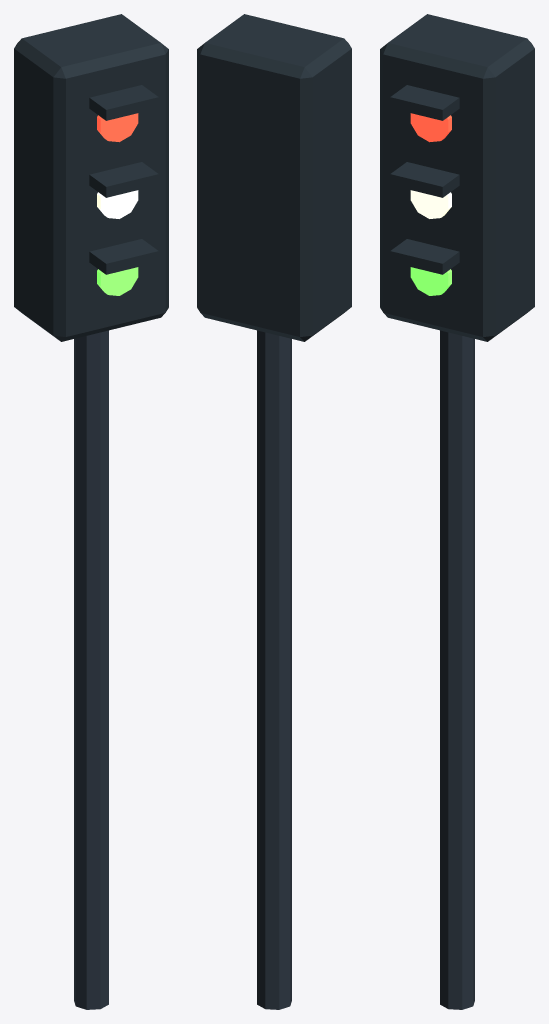
Rendered from hd_trafficlight.gltf.
3 renders of one model, left to right at view 1: azimuth 30°, elevation 25°; view 2: azimuth 150°, elevation 25°; view 3: azimuth 330°, elevation 25°, orthographic.
Visible parts, largest first — view 1: box, pole, hood0, hood1, hood2, lamp0, lamp2, lamp1; view 2: box, pole; view 3: box, pole, hood0, hood1, hood2, lamp0, lamp2, lamp1.
Part boxes in pixels (x1,y1,x2,y2): box: [14, 14, 168, 341]; pole: [74, 330, 108, 1009]; hood0: [89, 85, 158, 120]; hood1: [89, 162, 158, 197]; hood2: [89, 239, 158, 274]; lamp0: [97, 113, 138, 142]; lamp2: [97, 267, 138, 295]; lamp1: [97, 190, 138, 218]; box: [197, 14, 351, 341]; pole: [257, 330, 291, 1009]; box: [380, 14, 534, 341]; pole: [440, 330, 474, 1009]; hood0: [390, 85, 459, 120]; hood1: [390, 162, 459, 197]; hood2: [390, 239, 459, 274]; lamp0: [410, 113, 451, 142]; lamp2: [410, 267, 451, 295]; lamp1: [410, 190, 451, 218].
Bounding box in the file's own units: 0.44 × 3.5 × 0.43.
